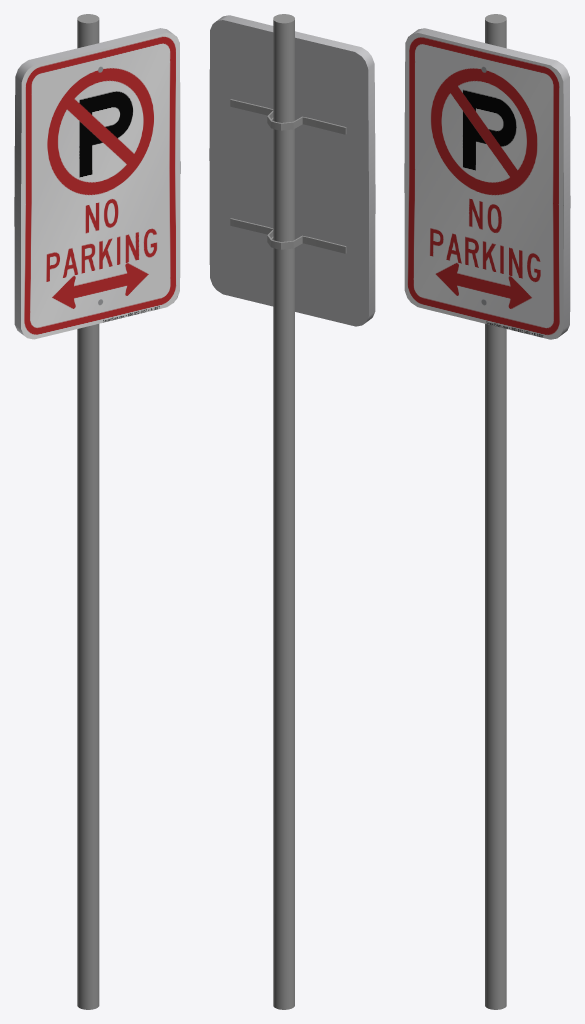
File: No Parking.fbx
3 renders of one model, left to right at view 1: azimuth 30°, elevation 25°; view 2: azimuth 150°, elevation 25°; view 3: azimuth 330°, elevation 25°, orthographic.
Parts seen in each view (by area): view 1: Object001, NGon001; view 2: Object001, NGon001; view 3: Object001, NGon001.
Part boxes in pixels (left/top/right/bottom): Object001: left=14, top=28, right=180, bottom=339; NGon001: left=77, top=14, right=99, bottom=1009; Object001: left=209, top=15, right=375, bottom=326; NGon001: left=230, top=14, right=346, bottom=1009; Object001: left=404, top=28, right=570, bottom=339; NGon001: left=485, top=14, right=506, bottom=1009.
Size of the model in its own units: 50.08 by 296 by 10.89.
